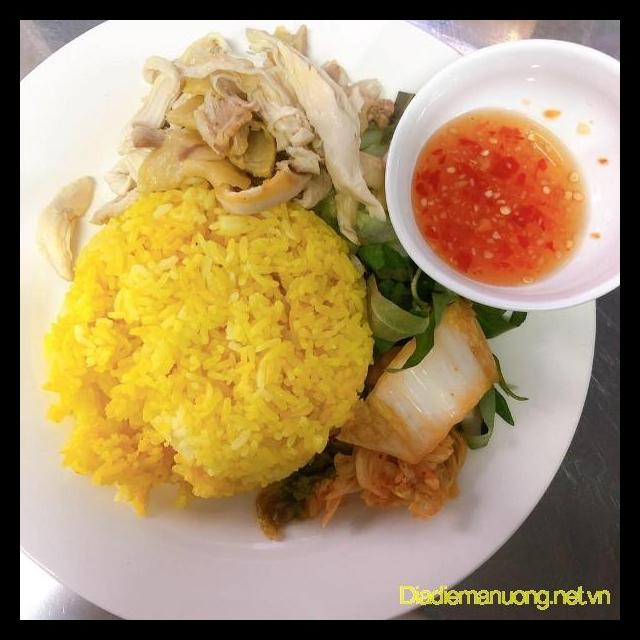com: (34, 173, 378, 523)
com ga: (26, 70, 481, 620)
rau ram: (345, 206, 463, 377), (448, 350, 532, 454), (464, 297, 531, 341)
thit ga: (85, 21, 398, 232), (37, 170, 100, 286)
